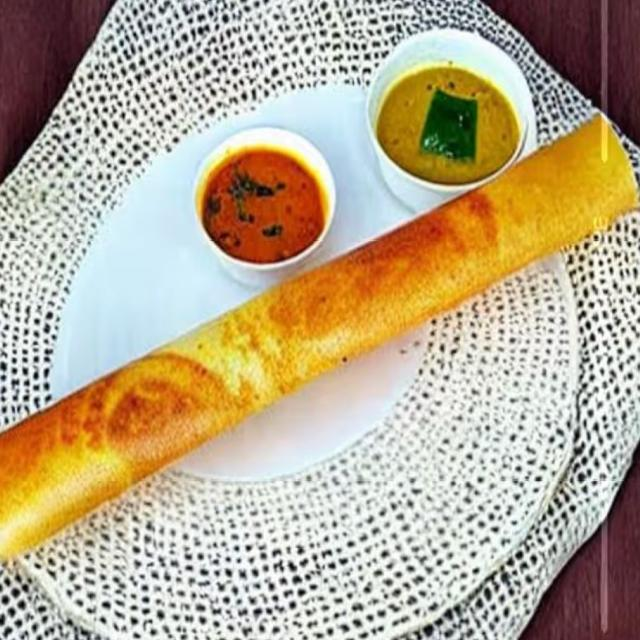DOSA: (0, 113, 639, 583)
KURMA: (366, 26, 532, 190)
SAMBAR: (192, 129, 337, 268)
